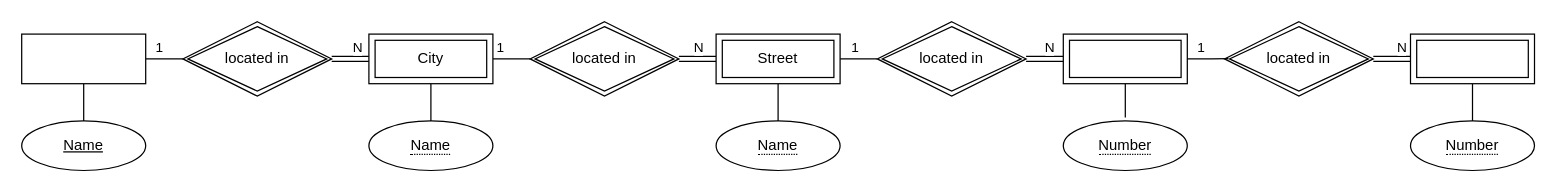
This 1556x192 diagram has some shape labels left out. Each missing label, with the box of its shape:
Buildings: (1062, 33, 1187, 84)
Country: (20, 33, 146, 84)
Rooms: (1409, 33, 1534, 84)
